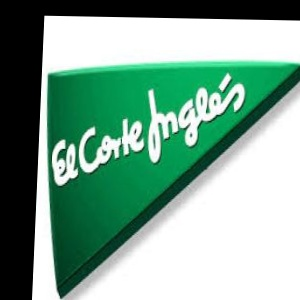corte_ingles: (131, 90, 300, 105)
